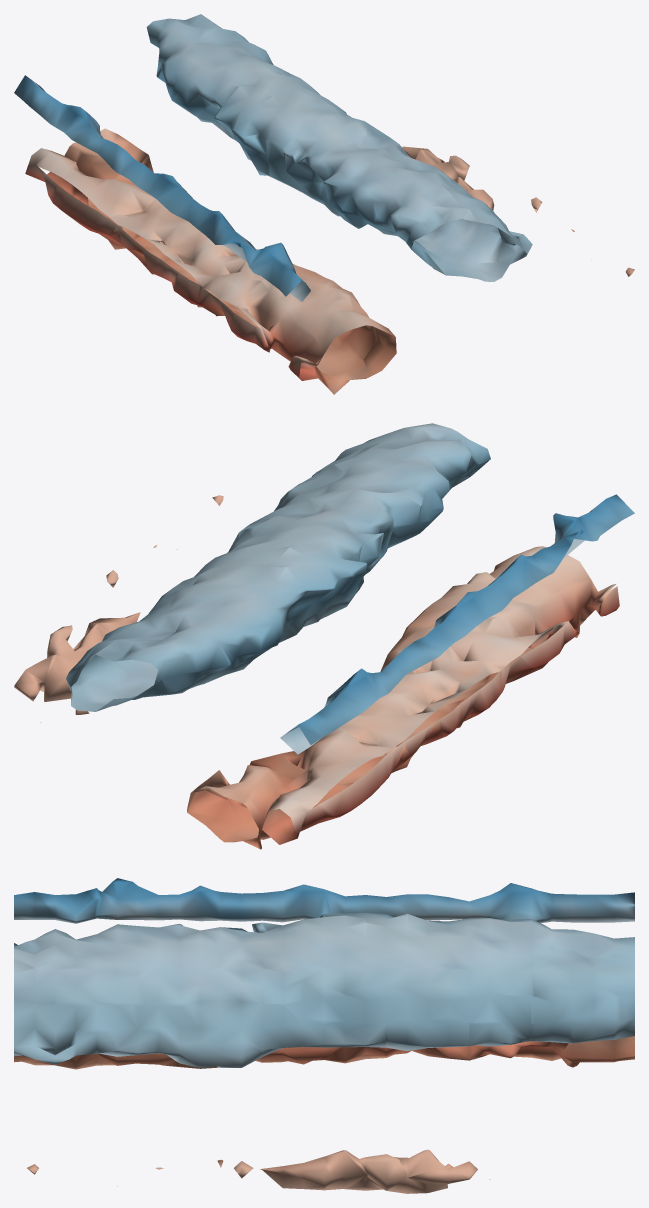
3 renders of one model, top to bottom at view 1: azimuth 30°, elevation 25°; view 2: azimuth 150°, elevation 25°; view 3: azimuth 270°, elevation 25°, orthographic. The views are drawn at different scales.
Size of the model in its own units: 1.87 by 0.8133 by 2.5.
